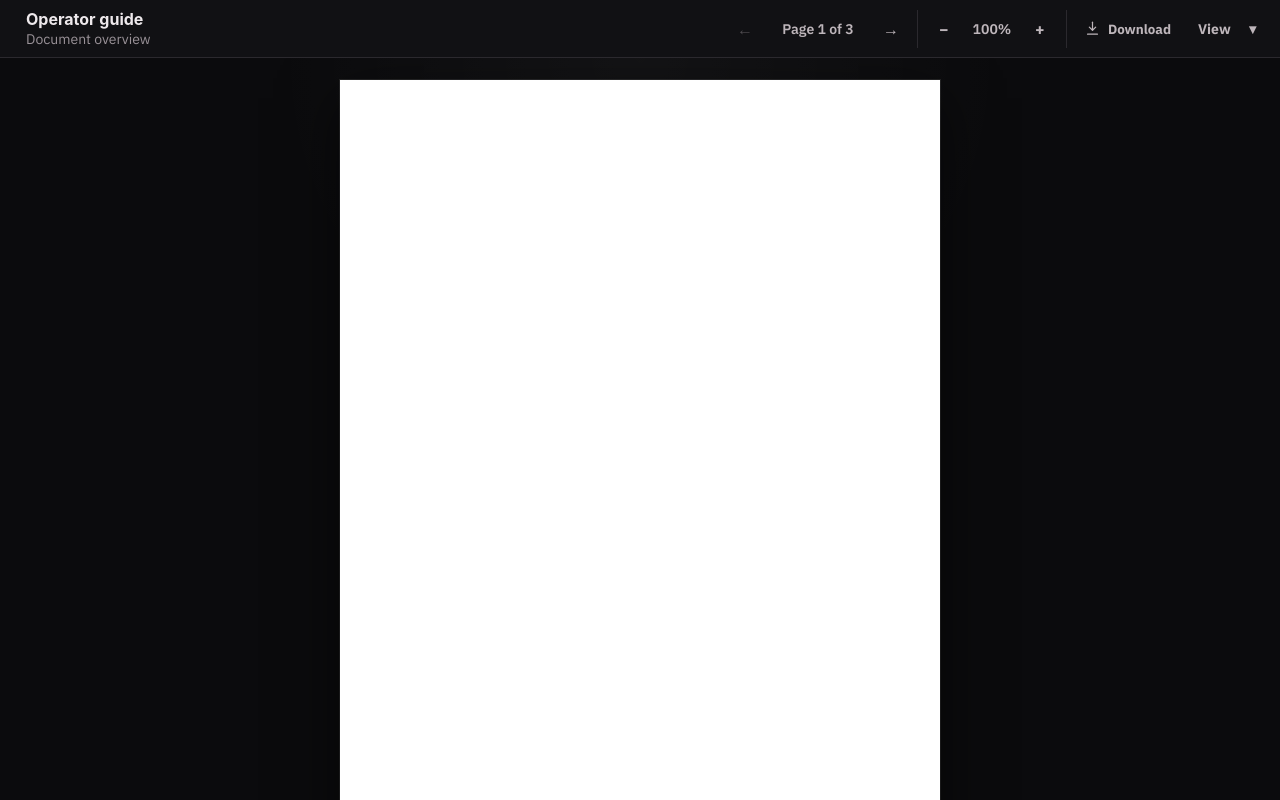
Test: KnowledgePdfViewer › treats cancellation as a non-error and makes a failed download retryable
This screenshot has width=1280, height=800.
Expected: the text "Page 1 of 3" is shown, x1=782 y1=20 x2=854 y2=38
Click the button with aria-label "Download PDF" at (1127, 28), box x1=1074 y1=10 x2=1181 y2=48
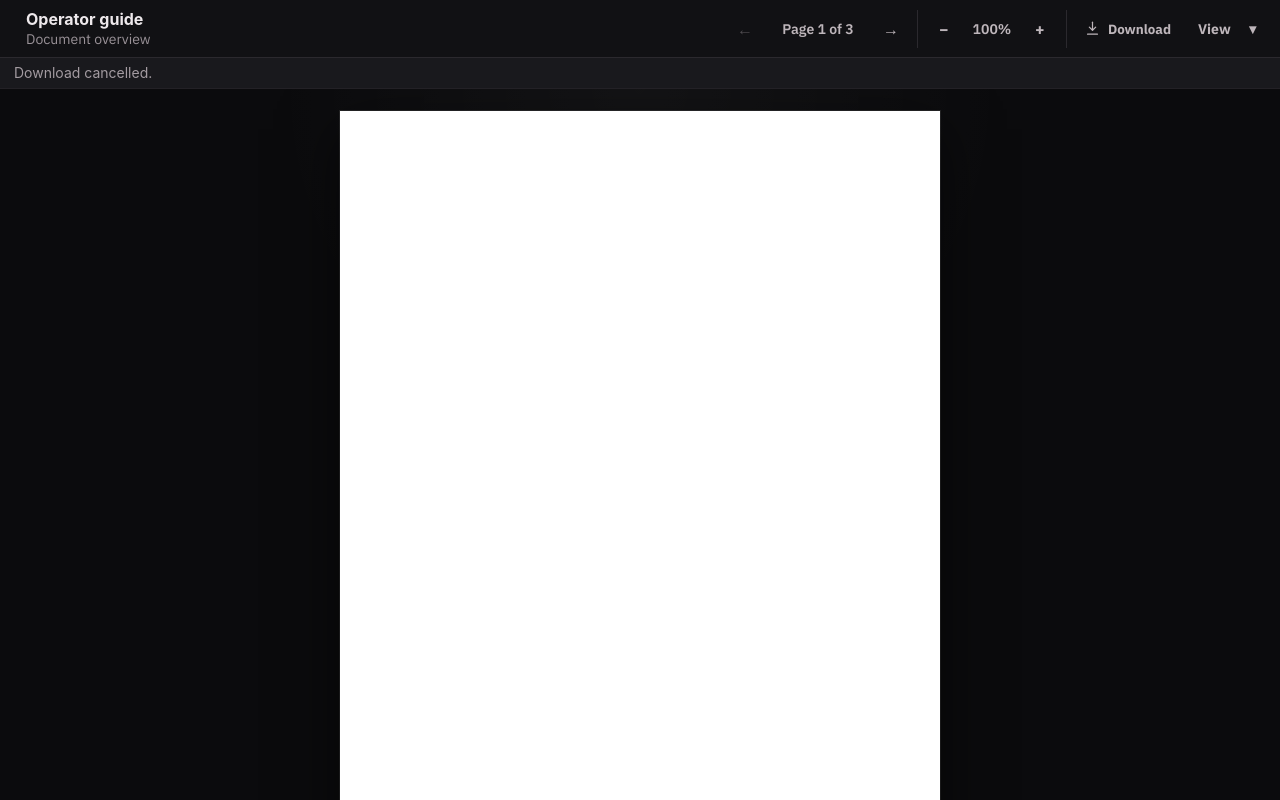
Expected: the message shows "Download cancelled", x1=14 y1=64 x2=152 y2=81
Click the button with aria-label "Download PDF" at (1127, 28), box x1=1074 y1=10 x2=1181 y2=48
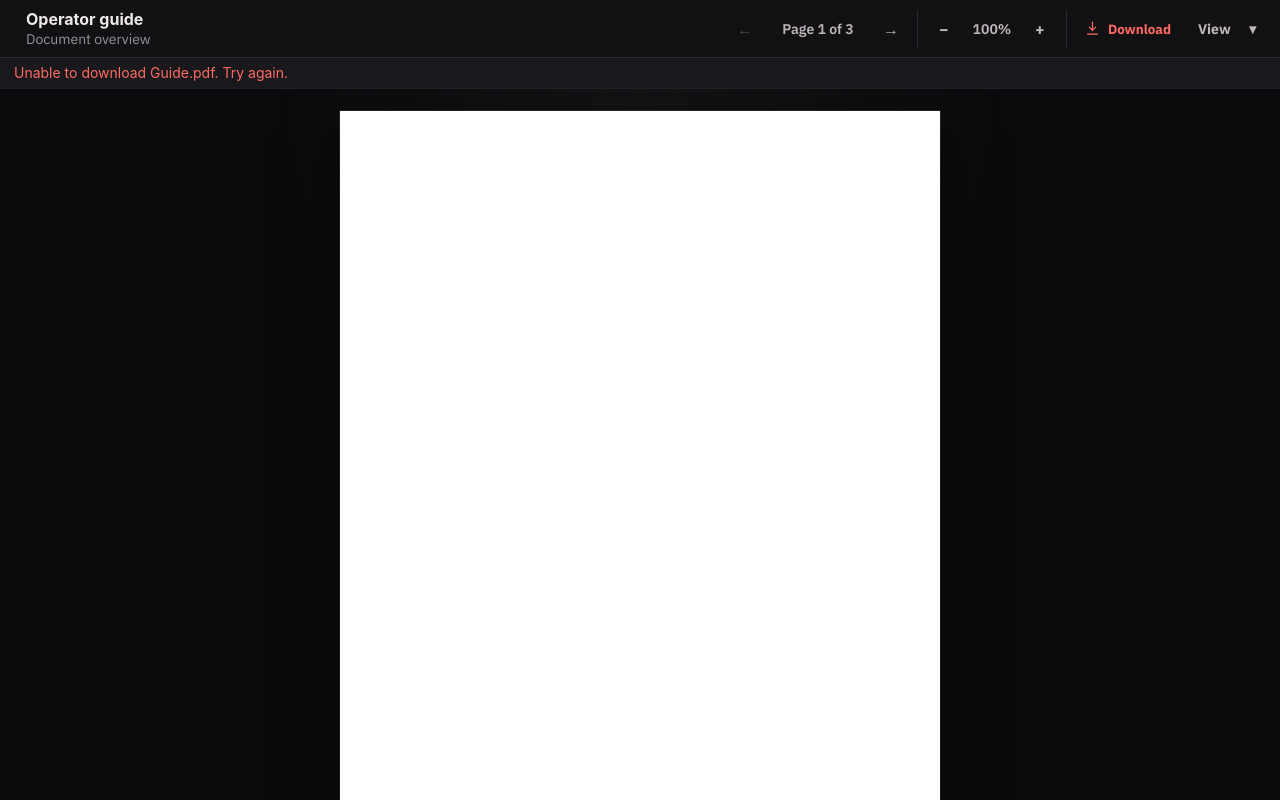
Expected: the message reads "Unable to download Guide.pdf. Try again.", x1=14 y1=64 x2=288 y2=81
